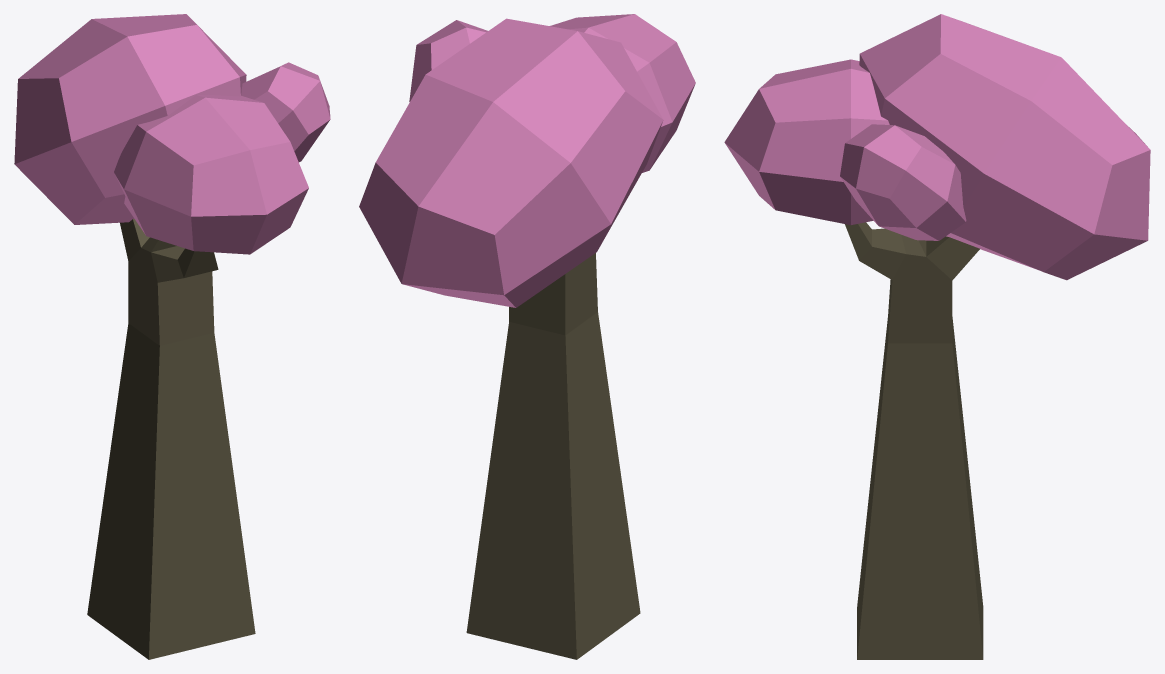
The model's file is tree.glb.
3 renders of one model, left to right at view 1: azimuth 30°, elevation 25°; view 2: azimuth 150°, elevation 25°; view 3: azimuth 270°, elevation 25°, orthographic. The views are drawn at different scales.
Parts seen in each view (by area): view 1: Tree; view 2: Tree; view 3: Tree.
Boxes of the visible parts, x1=… form: Tree: x1=14, y1=14, x2=330, y2=659; Tree: x1=359, y1=14, x2=695, y2=659; Tree: x1=724, y1=14, x2=1150, y2=659.
Bounding box in the file's own units: 2.19 × 4.94 × 3.17.
Materials: 1 (1 with a texture image).
